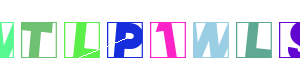1: (110, 0, 190, 80)
L: (86, 0, 166, 80), (160, 0, 240, 80)
P: (101, 0, 181, 80)
S: (219, 0, 299, 80)
T: (42, 0, 122, 80)
W: (0, 0, 80, 80), (128, 0, 208, 80)
